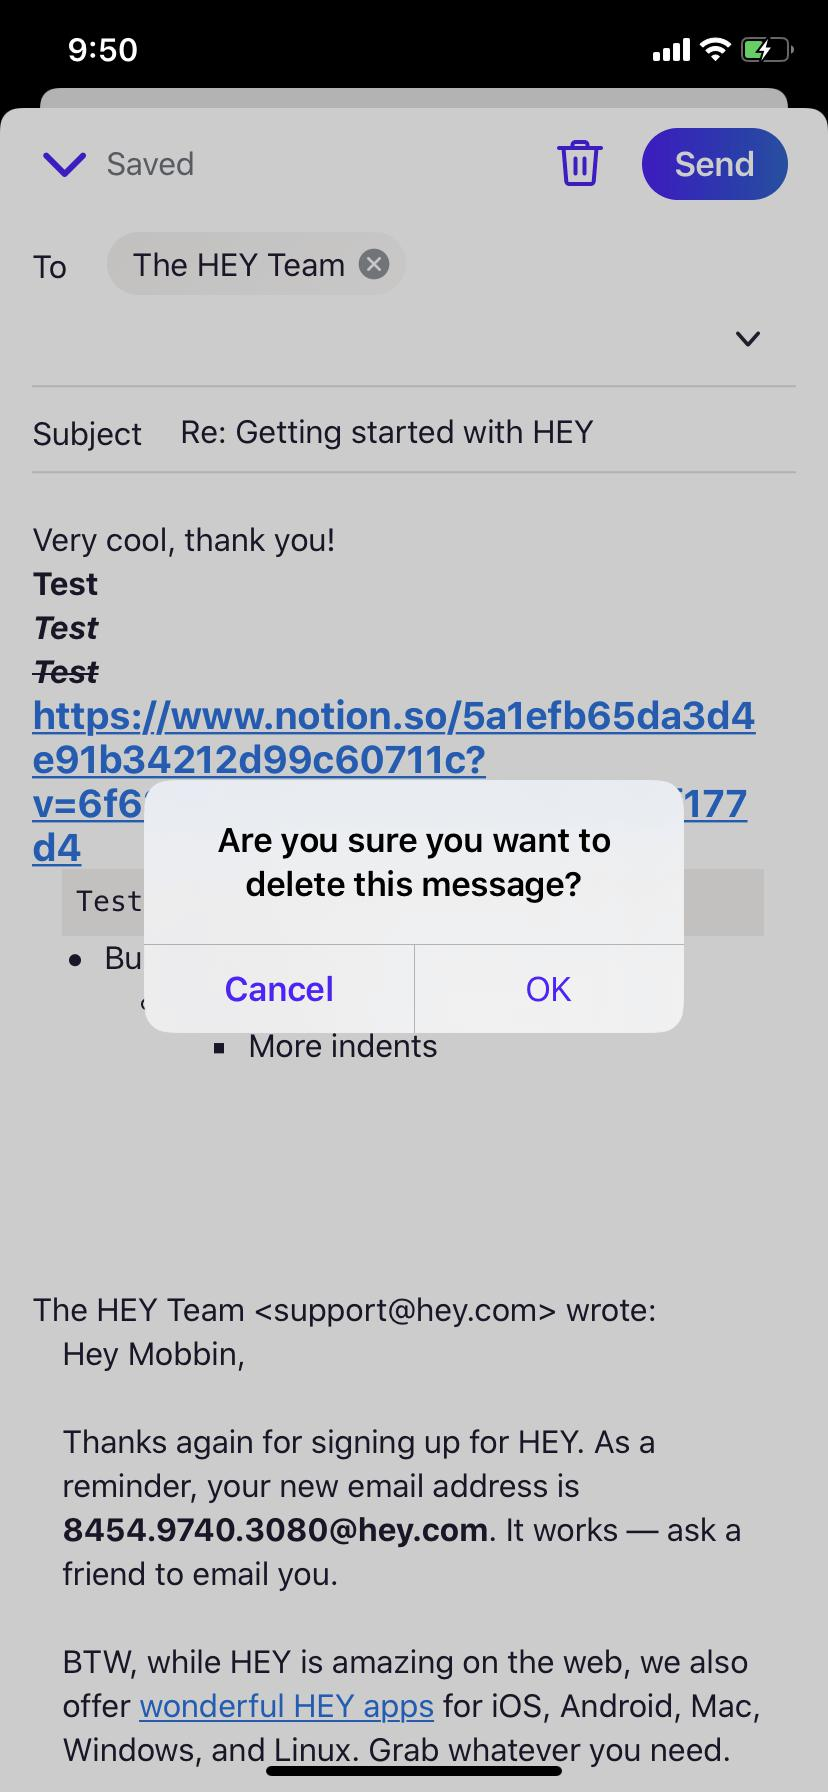Buttons: (19, 121, 234, 201), (632, 120, 794, 203)
